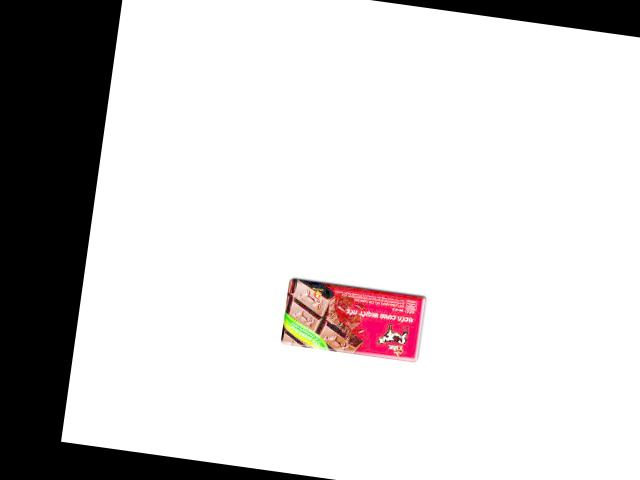chocolate: (280, 270, 431, 365)
